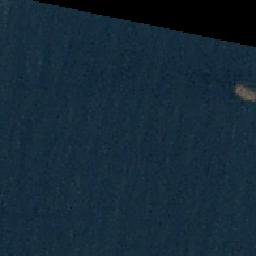debris: (233, 83, 256, 105)
